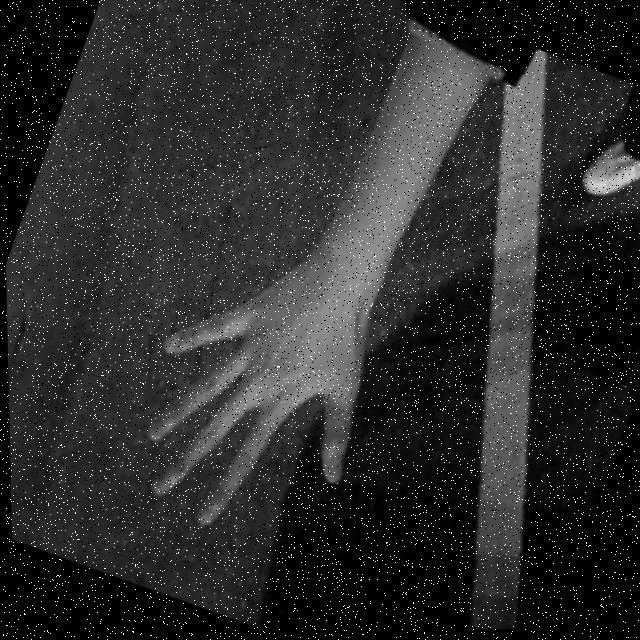no-gloves: (99, 238, 407, 574)
